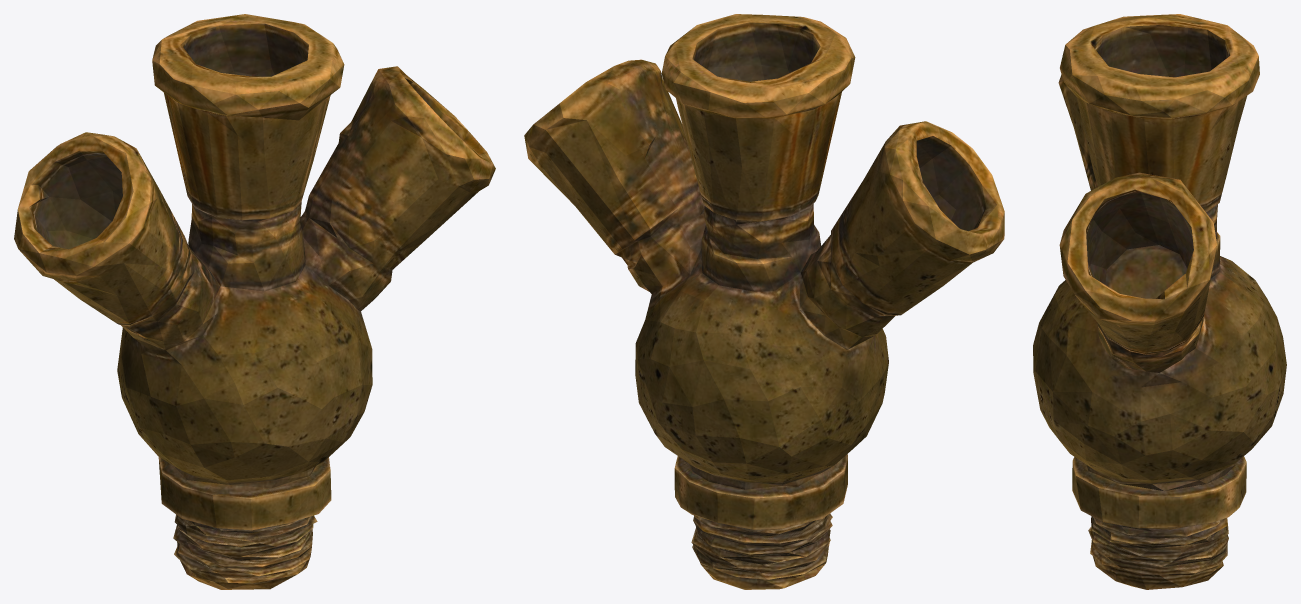
The picture shows the model from 3 angles, left to right: view 1: azimuth 30°, elevation 25°; view 2: azimuth 150°, elevation 25°; view 3: azimuth 270°, elevation 25°; orthographic projection.
Parts seen in each view (by area): view 1: geometry_0; view 2: geometry_0; view 3: geometry_0.
Boxes of the visible parts, x1,y1,x2,y2 form: geometry_0: (14, 14, 495, 589); geometry_0: (524, 14, 1004, 589); geometry_0: (1033, 14, 1286, 589).
Bounding box in the file's own units: 0.9142 × 1 × 0.4384.
Materials: 1 (1 with a texture image).
